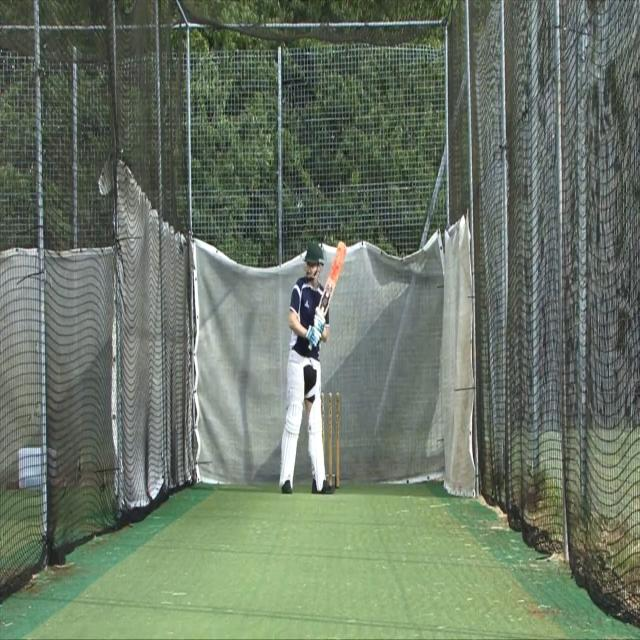batsman: (277, 236, 347, 496)
